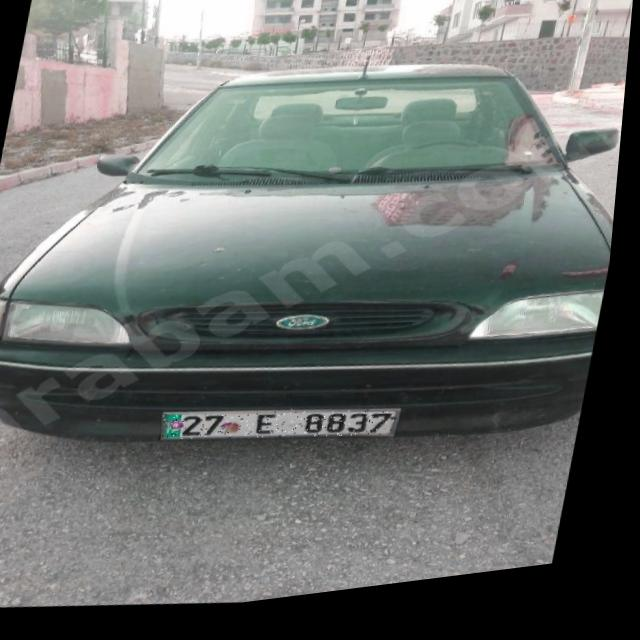license_plate: (165, 395, 408, 469)
